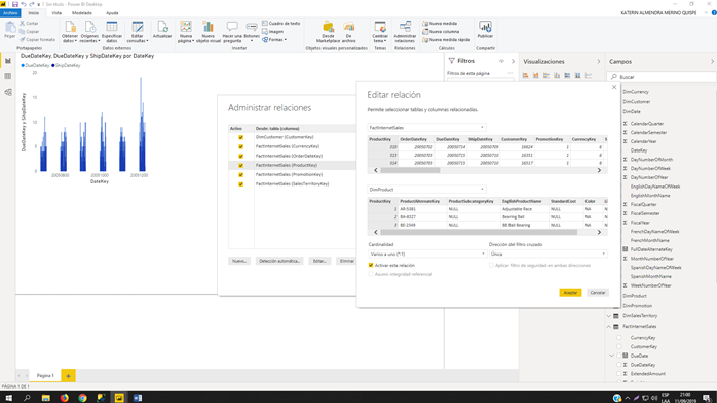

Layout of this report page (visuals, bound fields, positions):
{"tool":"powerbi","page":{"name":"Página 1","canvas":[1280,720],"ordinal":0},"visuals":[{"type":"clusteredColumnChart","fields":{"Y":["CountNonNull(FactInternetSales.DueDateKey)","CountNonNull(FactInternetSales.DueDateKey)","CountNonNull(FactInternetSales.ShipDateKey)"],"Category":["DimDate.DateKey"]},"box":[10.1,0,450.9,398.3],"z":0},{"type":"clusteredColumnChart","fields":{"Y":["CountNonNull(DimProductSubcategory.CategoryKey)","CountNonNull(DimProductCategory.CategoryKey)"]},"box":[461,0,483.4,360.3],"z":1000}]}

Visuals, with their boxes on the page's 1280x720 design canvas (x1, y1, x2, y2). These are canvas units, not pixel positions in the 717x403 screenshot, which may show the page scaled, cropped or inside an application window:
clusteredColumnChart - CountNonNull(FactInternetSales.DueDateKey) x CountNonNull(FactInternetSales.DueDateKey): [10, 0, 461, 398]
clusteredColumnChart - CountNonNull(DimProductSubcategory.CategoryKey) x CountNonNull(DimProductCategory.CategoryKey): [461, 0, 944, 360]
